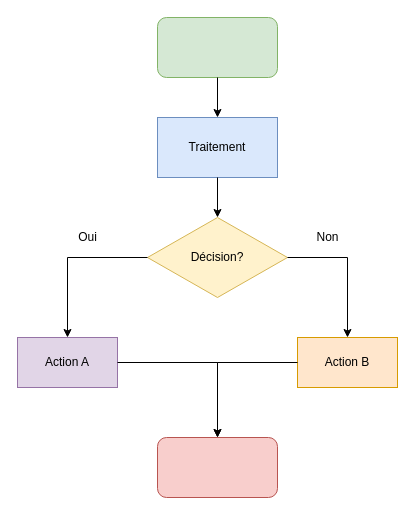
Image size: 415x515. Some labels were removed from this diagram. The box of each missing label's shape, as (x1, y1, x2, y2) in pixels:
Début: (156, 16, 278, 78)
Fin: (156, 436, 278, 498)
